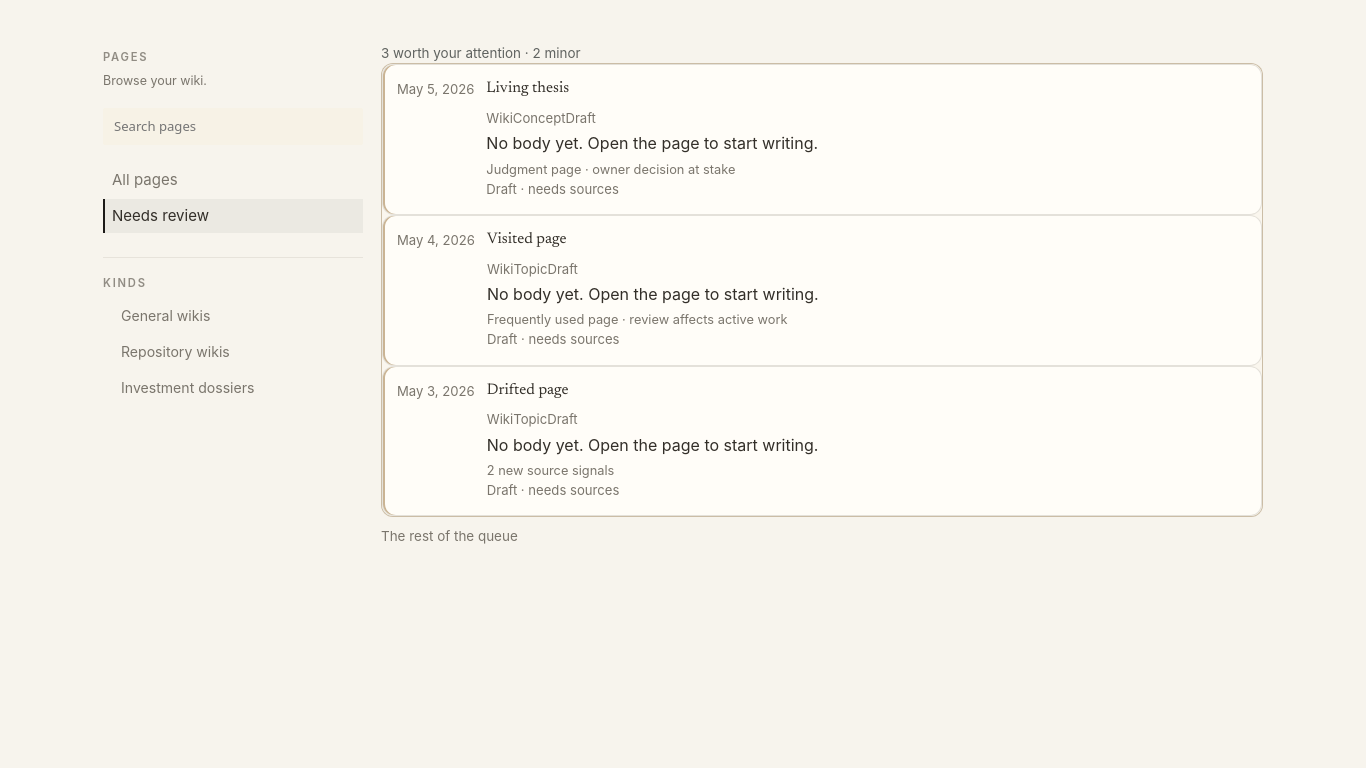
it: WikiList › shows three promoted review pages and keeps the rest in a drawer
Check: the text "3 worth your attention · 2 minor" is shown, box [381,45,580,61]
Check: the text "Judgment page · owner decision at stake" is shown, box [486,162,735,177]
Click the heading "The rest of the queue": coordinates (449, 536) [381,528,518,544]
(page scrolled)
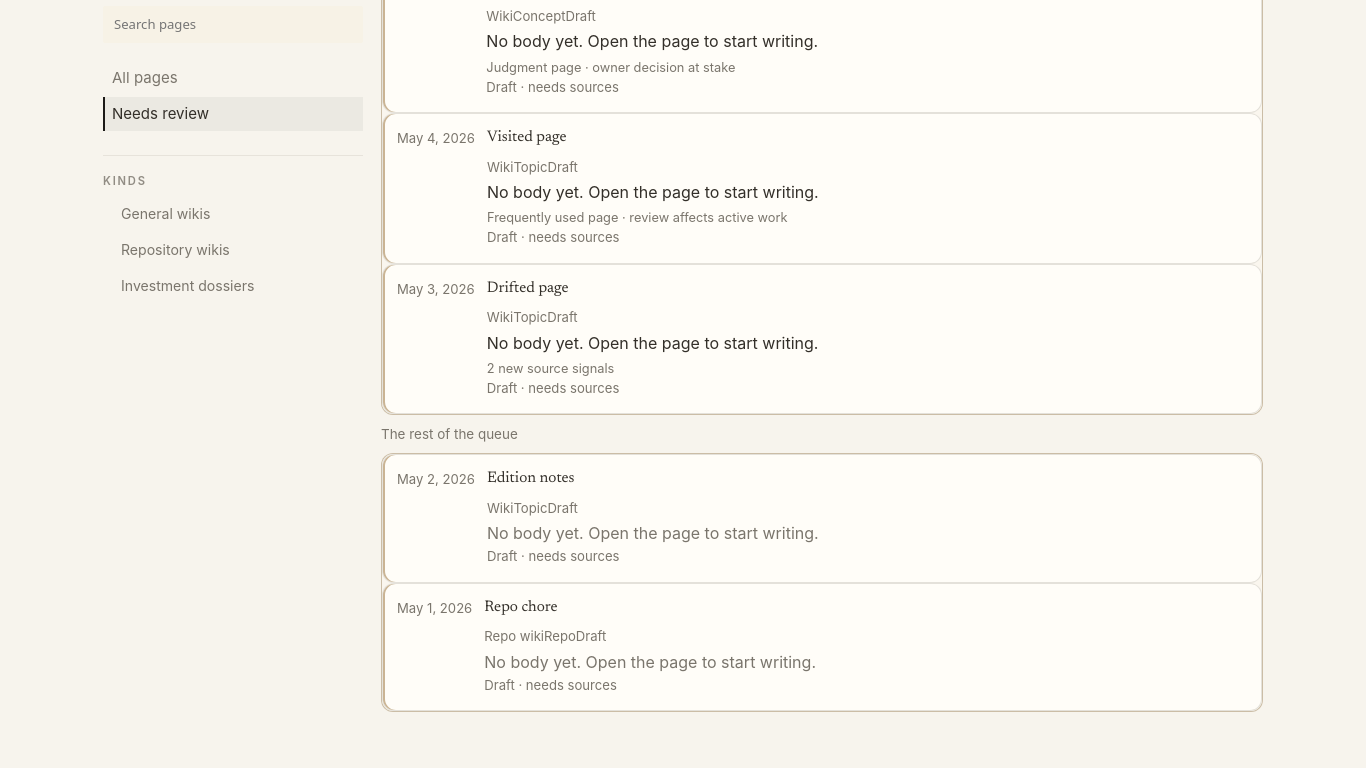
Check: the element "Edition notes" is shown, box [382,454,1262,582]
Check: the element "Repo chore" is shown, box [382,583,1262,711]
